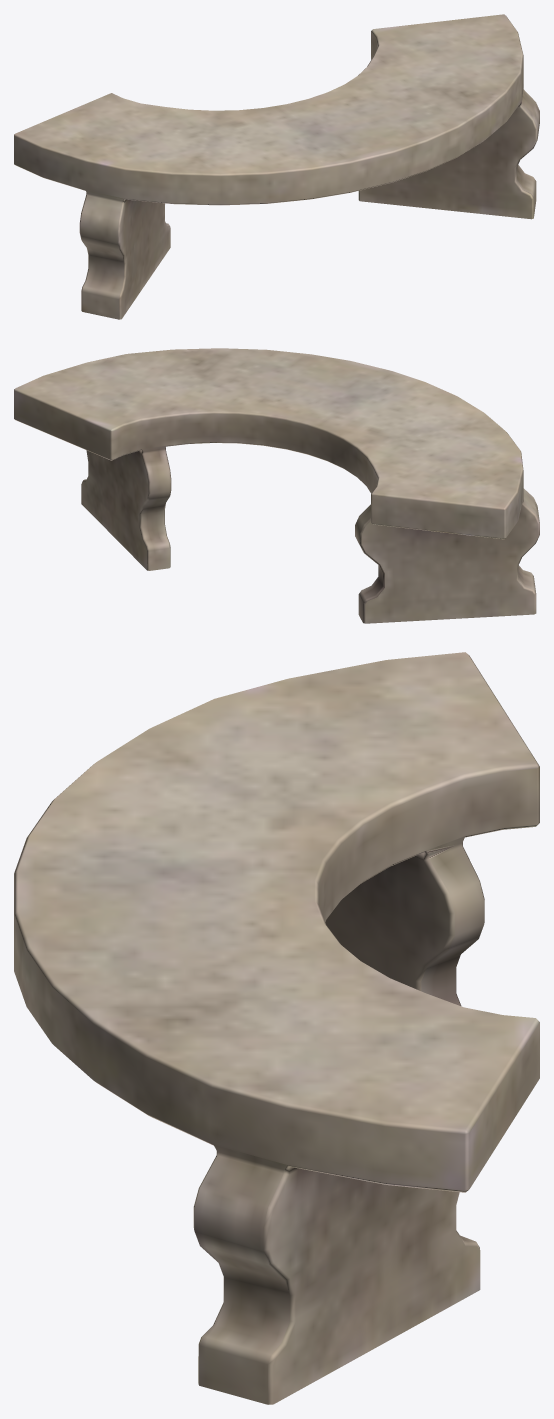
File: patrick-curved-bench.glb
3 renders of one model, top to bottom at view 1: azimuth 30°, elevation 25°; view 2: azimuth 150°, elevation 25°; view 3: azimuth 270°, elevation 25°, orthographic. The views are drawn at different scales.
Visible parts, largest first — view 1: Stone_Bench1; view 2: Stone_Bench1; view 3: Stone_Bench1.
Part boxes in pixels (box(x1,y1,x2,y2)): Stone_Bench1: box(14, 14, 539, 319); Stone_Bench1: box(14, 348, 539, 623); Stone_Bench1: box(14, 652, 539, 1404).
Bounding box in the file's own units: 0.0336 × 0.00955 × 0.0155.
Materials: 1 (1 with a texture image).
